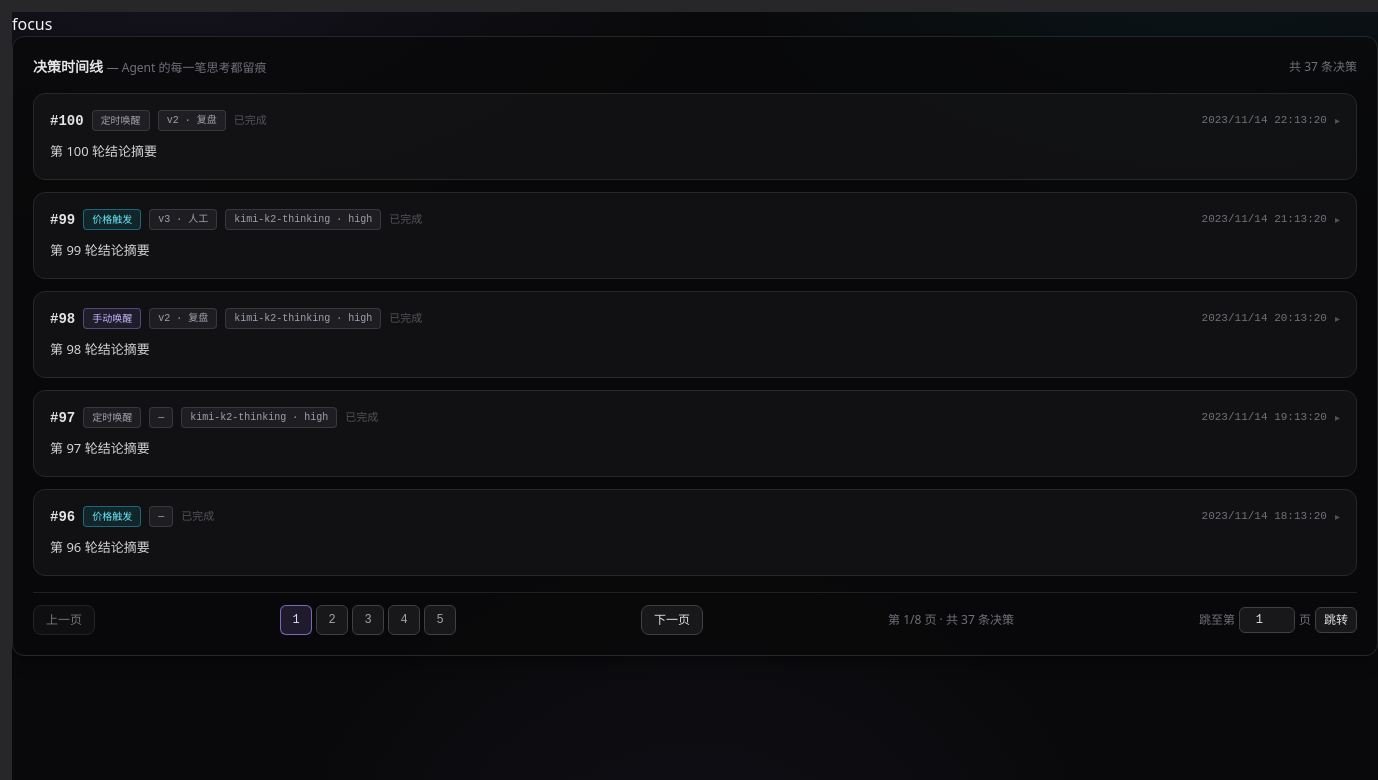
Scenario: RoundTimeline(决策时间线) › 每页渲染 5 条、显示总数，并以最多五个页码切换下一页
The width and height of the screenshot is (1378, 780).
Expected: the text "第 100 轮结论摘要" is shown, top-left (50, 142), bottom-right (157, 160)
Expected: the text "第 96 轮结论摘要" is shown, top-left (50, 538), bottom-right (150, 556)
Click the button "下一页".
click(672, 620)  # box top-left (641, 605), bottom-right (703, 635)
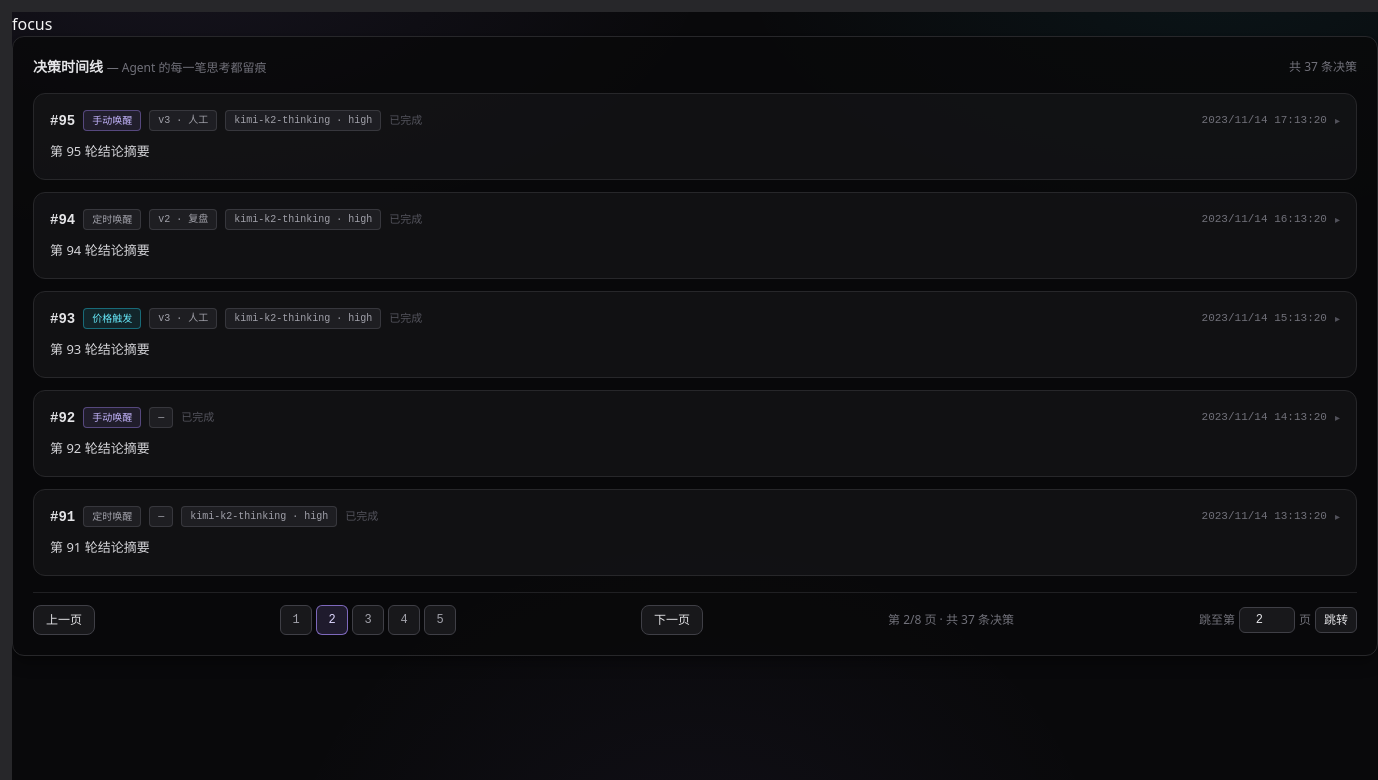
Expected: the text "第 95 轮结论摘要" is shown, top-left (50, 142), bottom-right (150, 160)
